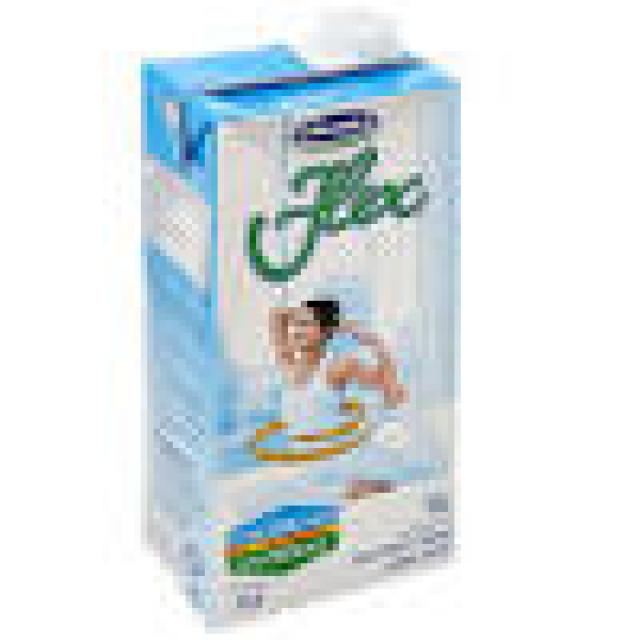non_white_jug: (102, 19, 461, 627)
